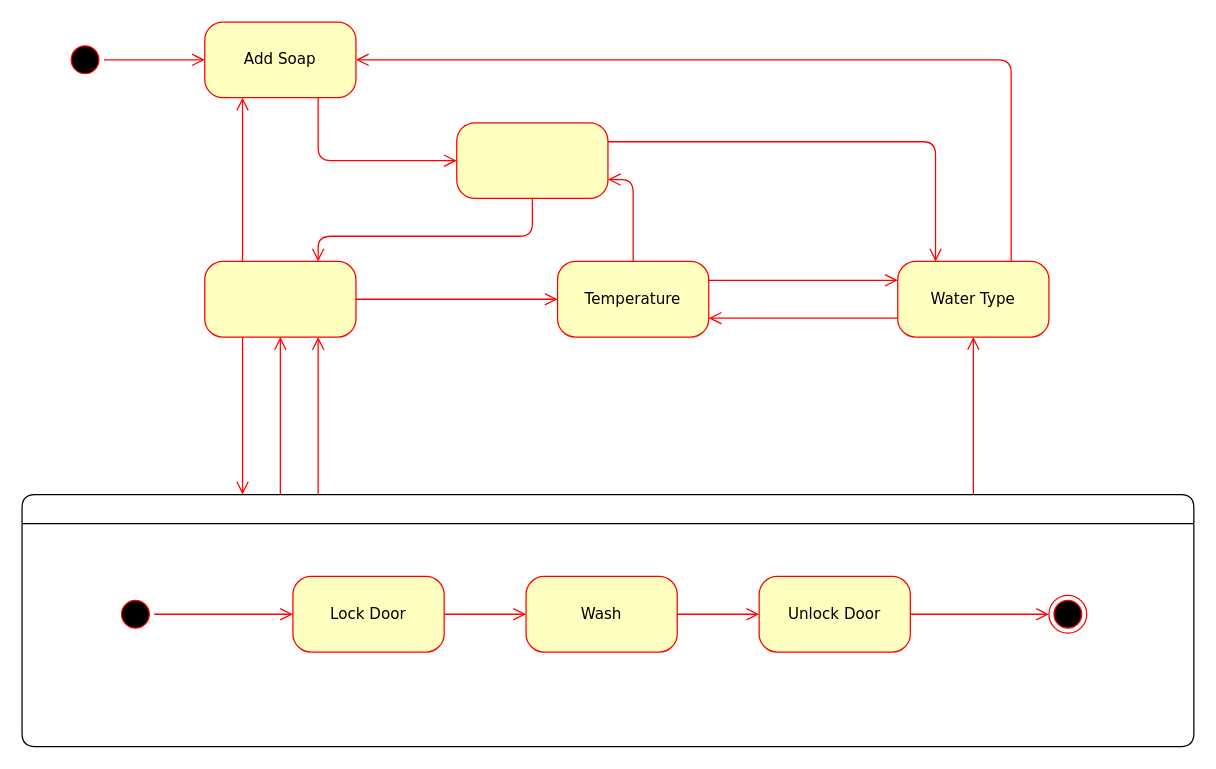
Some shapes in this 1216 by 769 pixel diagram are drawn without their labels. Here are the shapes that lost their labels. From the top down, the box of each, then its label:
(455, 122, 608, 198): Select Mode
(203, 260, 356, 337): Timer
(21, 493, 1194, 747): Container
